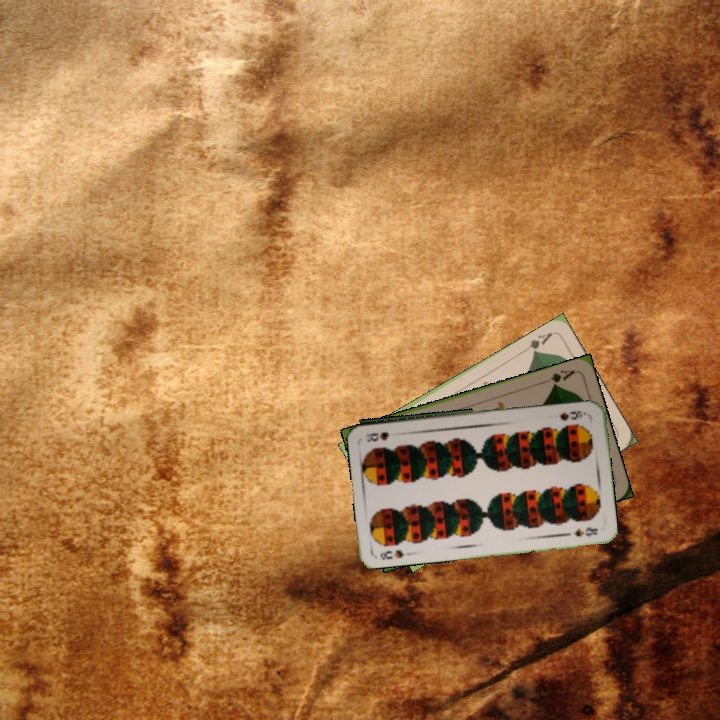GA: (519, 328, 555, 357), (539, 366, 578, 389)
S8: (376, 546, 414, 562), (556, 407, 588, 423)
